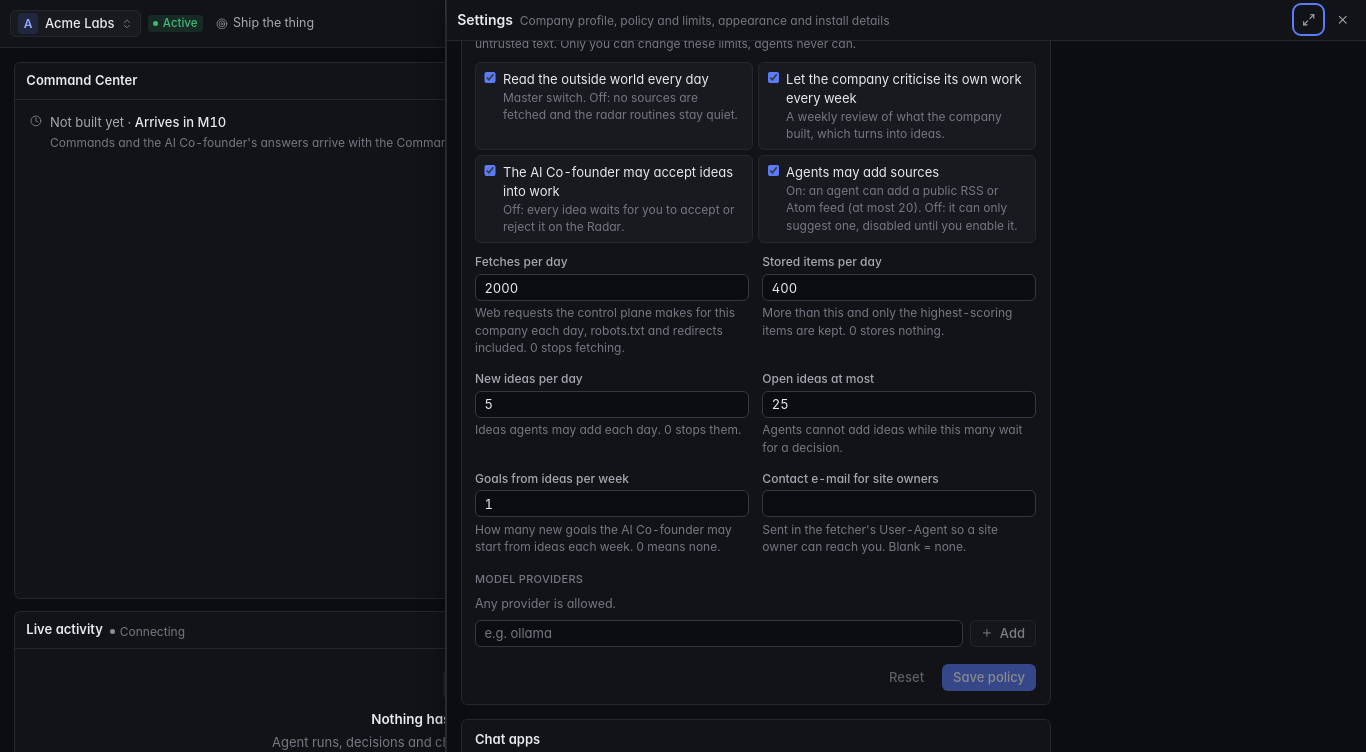
Test: Settings -> Policy: market radar group (Milestone 16) › shows the server message when it refuses a value
(page scrolled)
Replace the text in the field labelled "Open ideas at most" with "10". click: (899, 404)
box: [762, 391, 1036, 418]
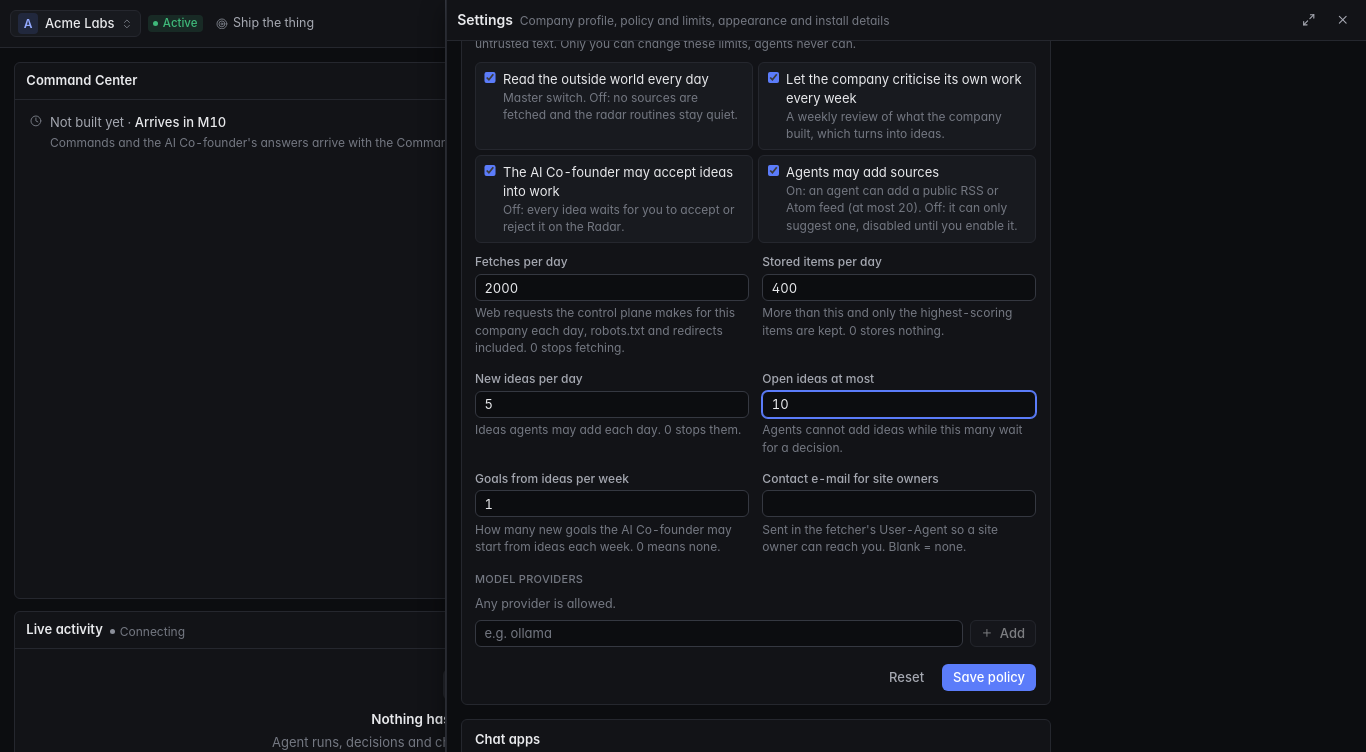
Click the button "Save policy". click: click(989, 677)
box: [942, 664, 1036, 691]
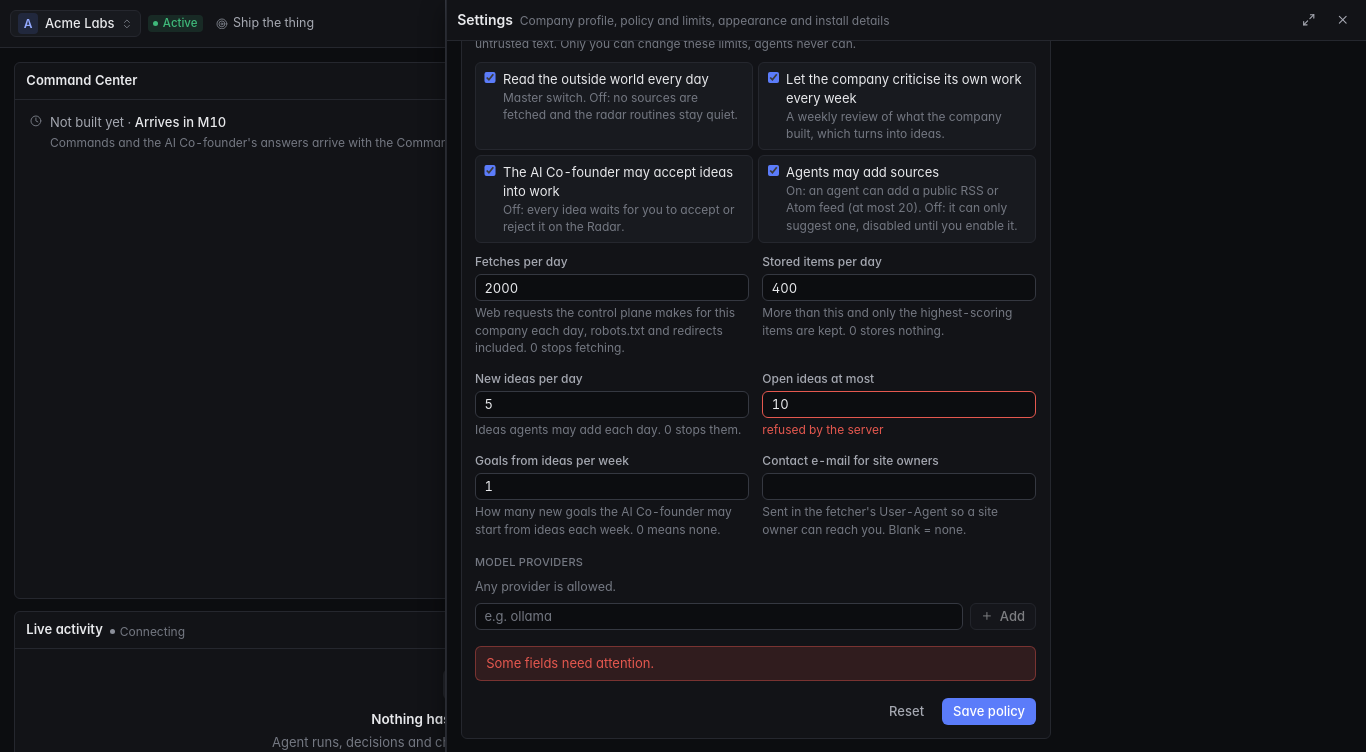
Expected: the text "refused by the server" is shown, [762, 422, 883, 437]
